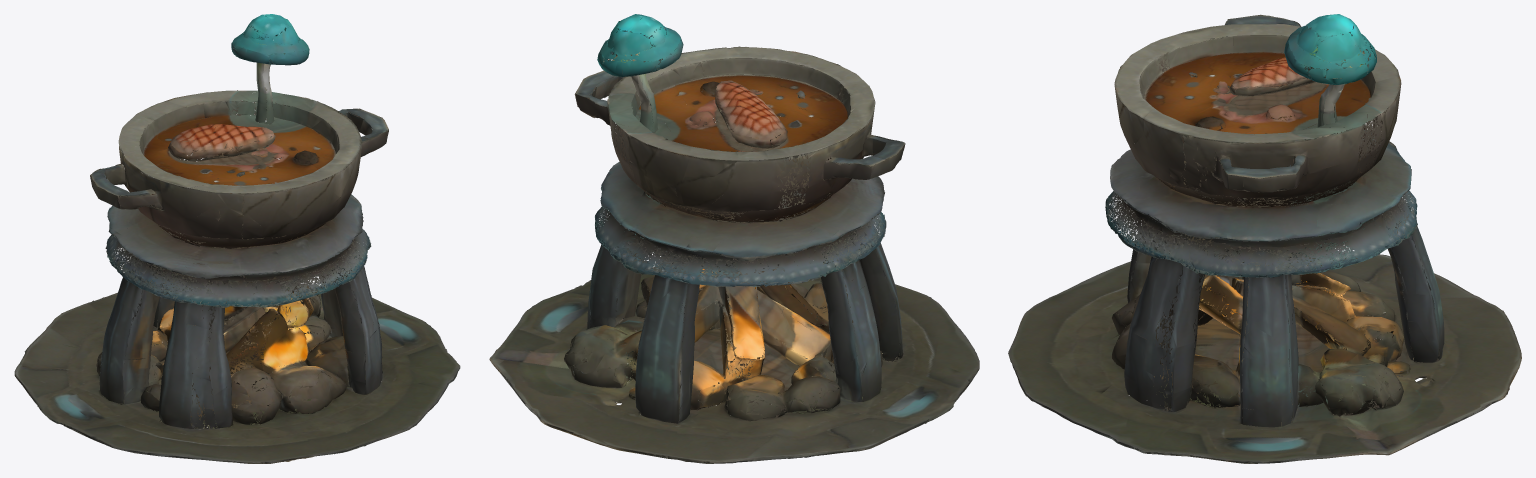
File: CookingPot3DOk.glb
3 views of the same model, side by side, from view 1: azimuth 30°, elevation 25°; view 2: azimuth 150°, elevation 25°; view 3: azimuth 270°, elevation 25° (orthographic). The views are drawn at different scales.
Visible parts, largest first — view 1: Mesh_0; view 2: Mesh_0; view 3: Mesh_0.
Boxes of the visible parts, box(x1,y1,x2,y2) form: Mesh_0: box(14, 14, 460, 463); Mesh_0: box(489, 14, 979, 463); Mesh_0: box(1008, 14, 1521, 463).
Size of the model in its own units: 2 by 1.68 by 2.
Materials: 1 (1 with a texture image).
